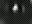person: (13, 3, 19, 14), (22, 5, 26, 15)
